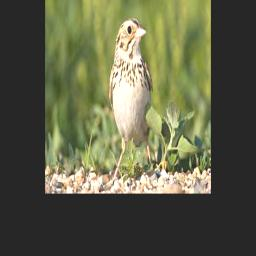Sparrow: (107, 14, 154, 186)
